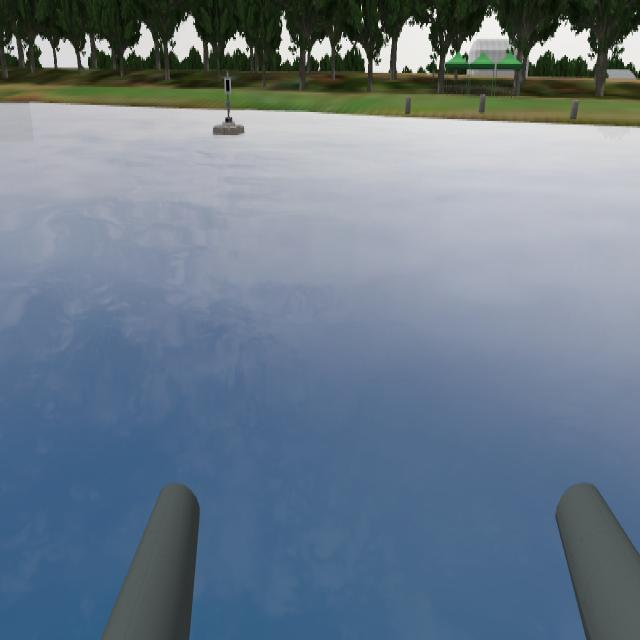black_pole: (223, 69, 234, 113)
